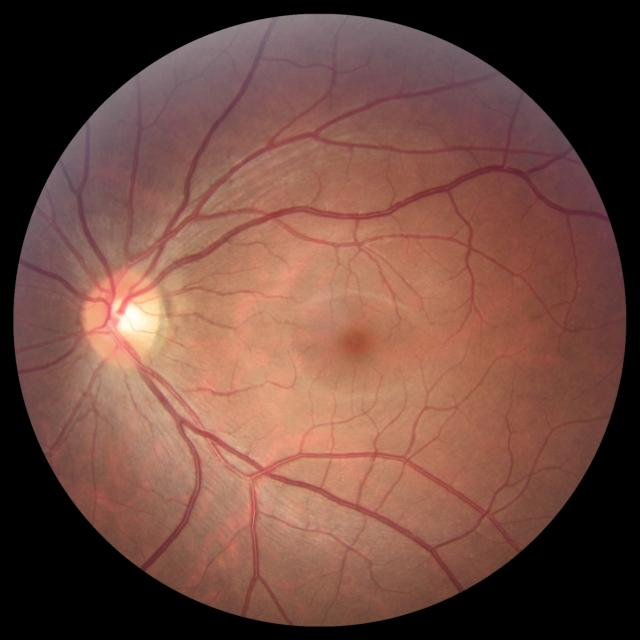OC: (104, 296, 143, 336)
OD: (83, 268, 165, 364)
